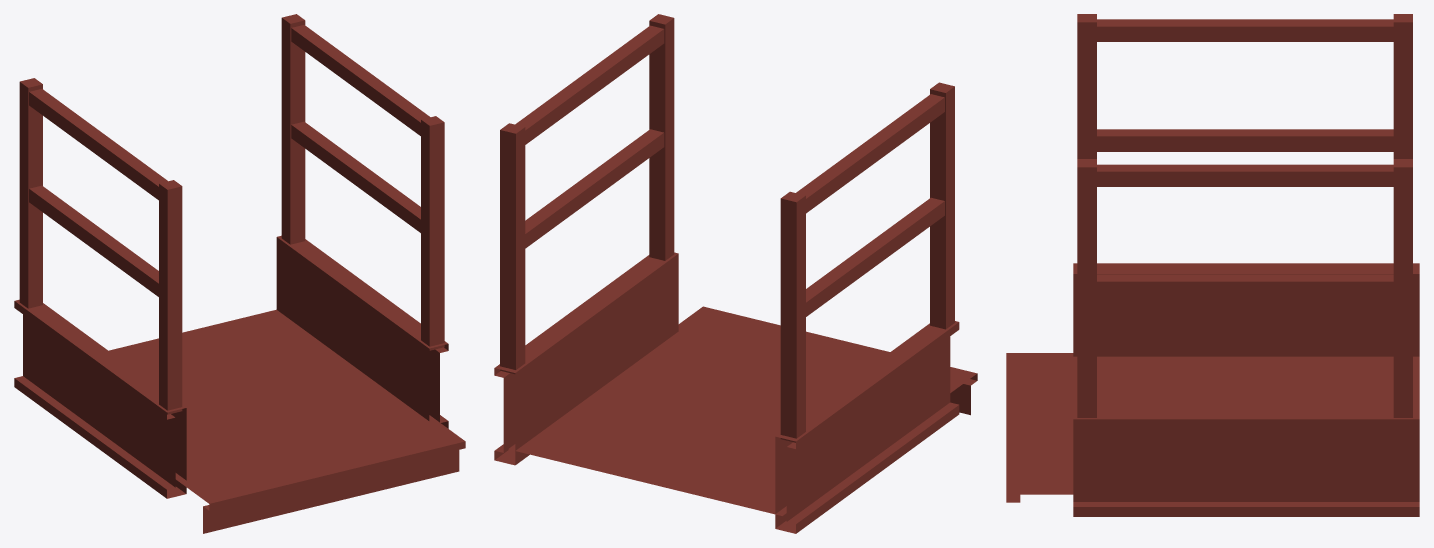
Rendered from Industrial catwalk walk way 4.fbx.
3 views of the same model, side by side, from view 1: azimuth 30°, elevation 25°; view 2: azimuth 150°, elevation 25°; view 3: azimuth 270°, elevation 25° (orthographic). The views are drawn at different scales.
Parts seen in each view (by area): view 1: pCube75; view 2: pCube75; view 3: pCube75.
Boxes of the visible parts, x1,y1,x2,y2 form: pCube75: (14, 14, 465, 533); pCube75: (494, 14, 977, 533); pCube75: (1006, 14, 1419, 516).
Size of the model in its own units: 129 by 144 by 144.
